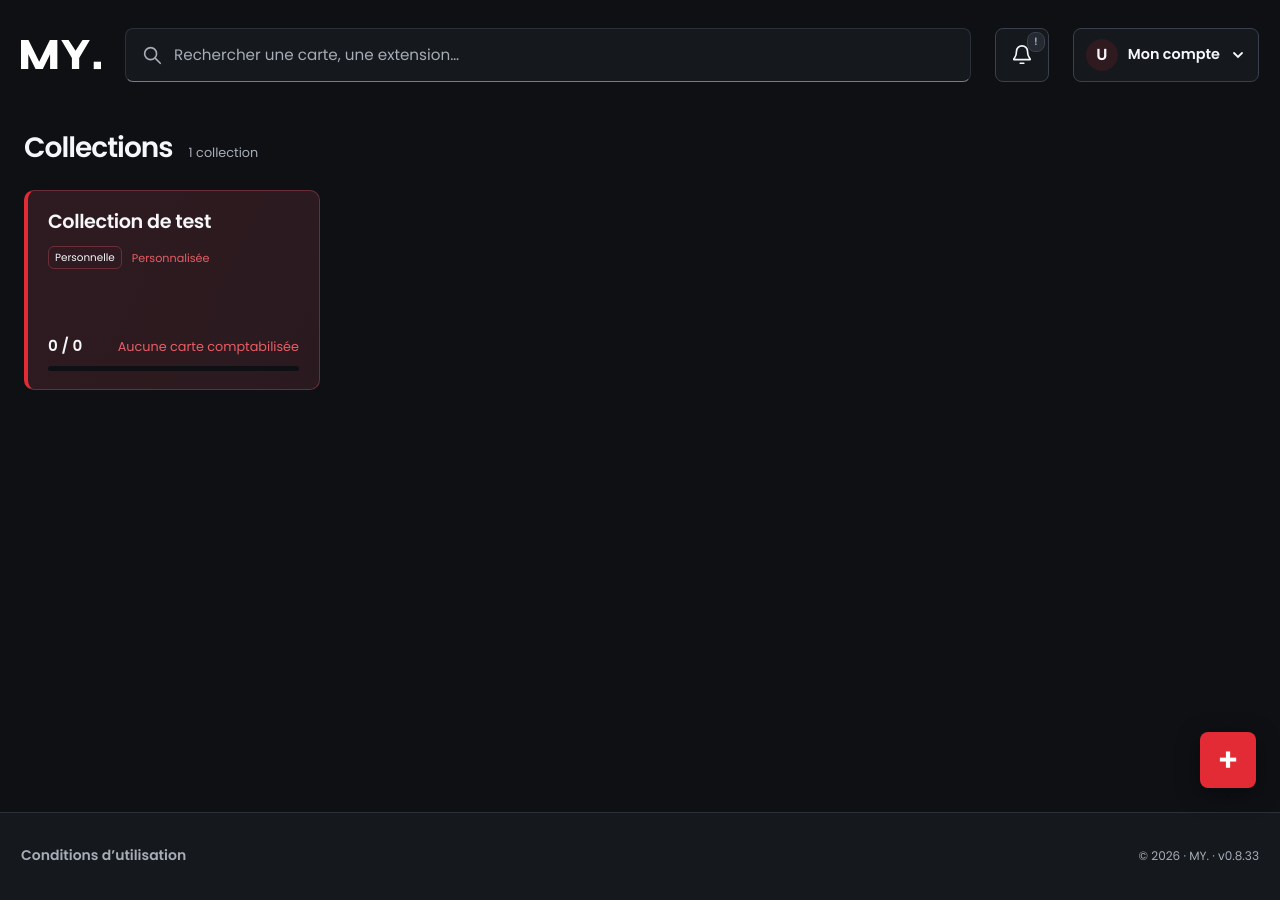
Test case: le lien tuile owned ouvre la bonne route et permet le retour
The width and height of the screenshot is (1280, 900).
Click the link "Collection de test".
click(130, 222)  # box [24, 190, 320, 390]
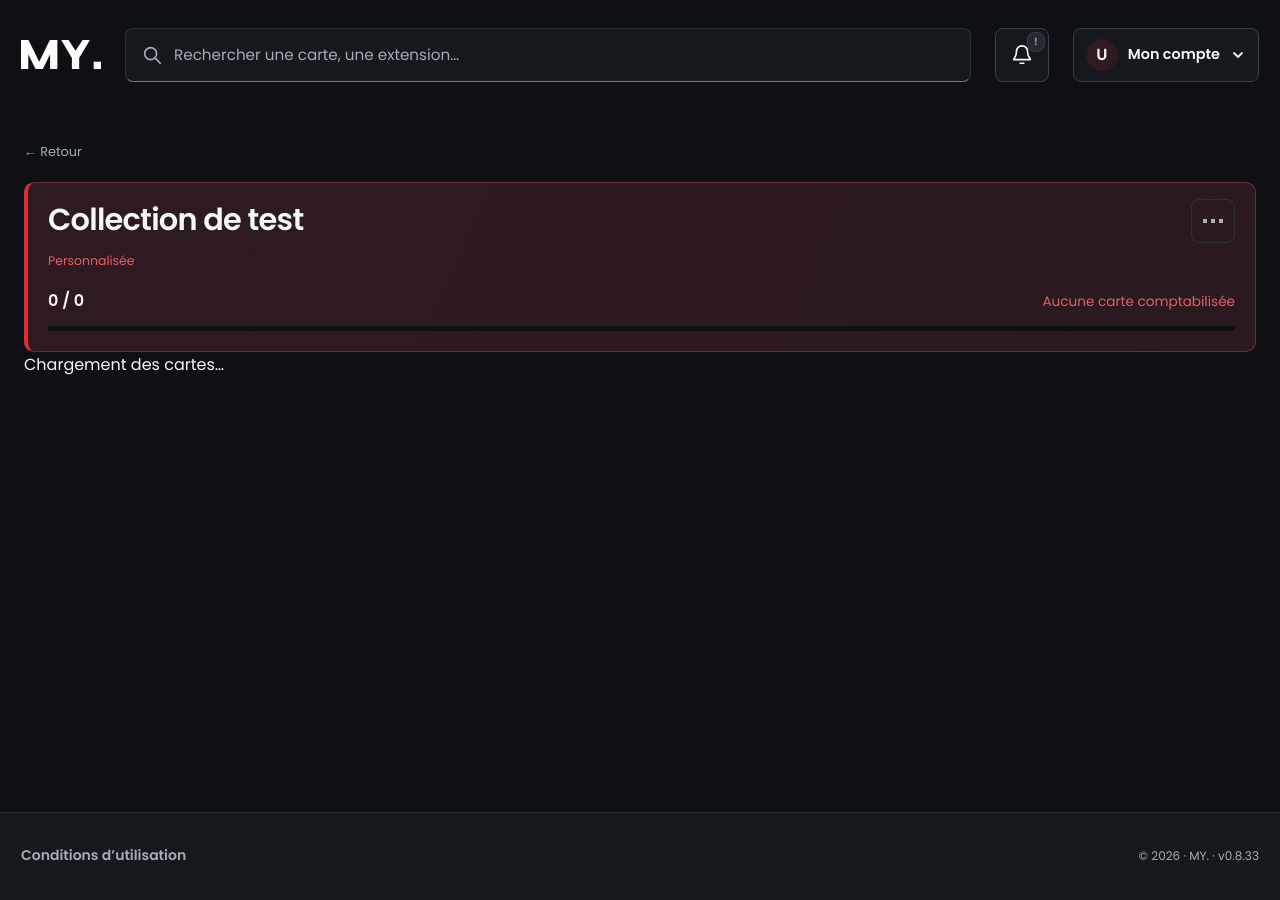
Check: the heading "Collection de test" is shown, box [48, 198, 303, 241]
Click the button "← Retour".
click(53, 152)  # box [24, 130, 82, 174]
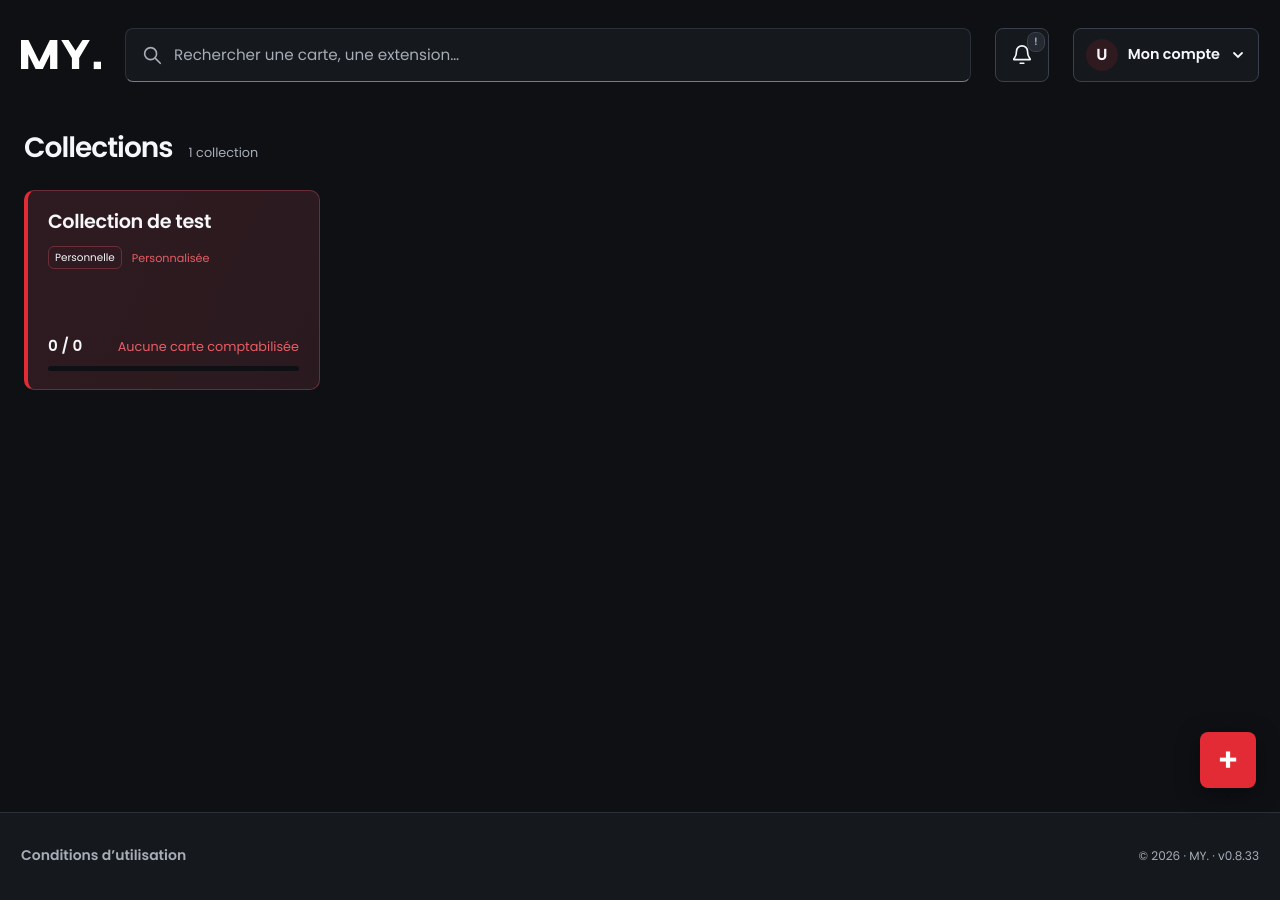
Check: the heading "Collections" is shown, box [24, 130, 173, 166]
